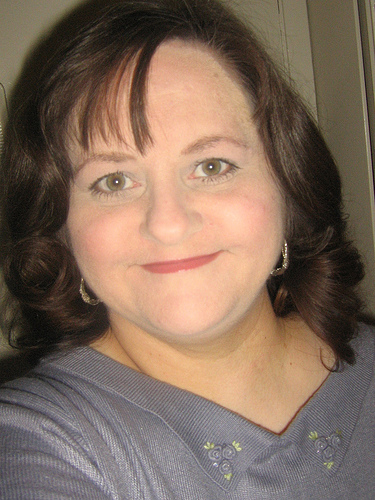without_mask: (23, 24, 345, 375)
